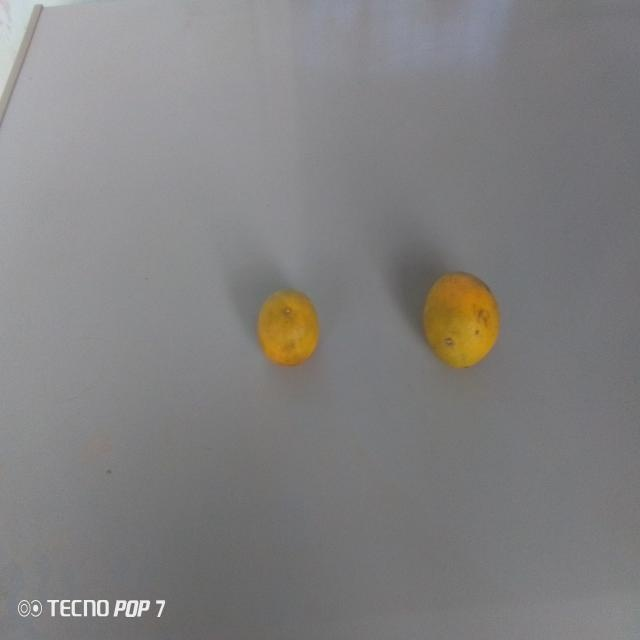agrume: (409, 265, 511, 382), (251, 281, 324, 370)
